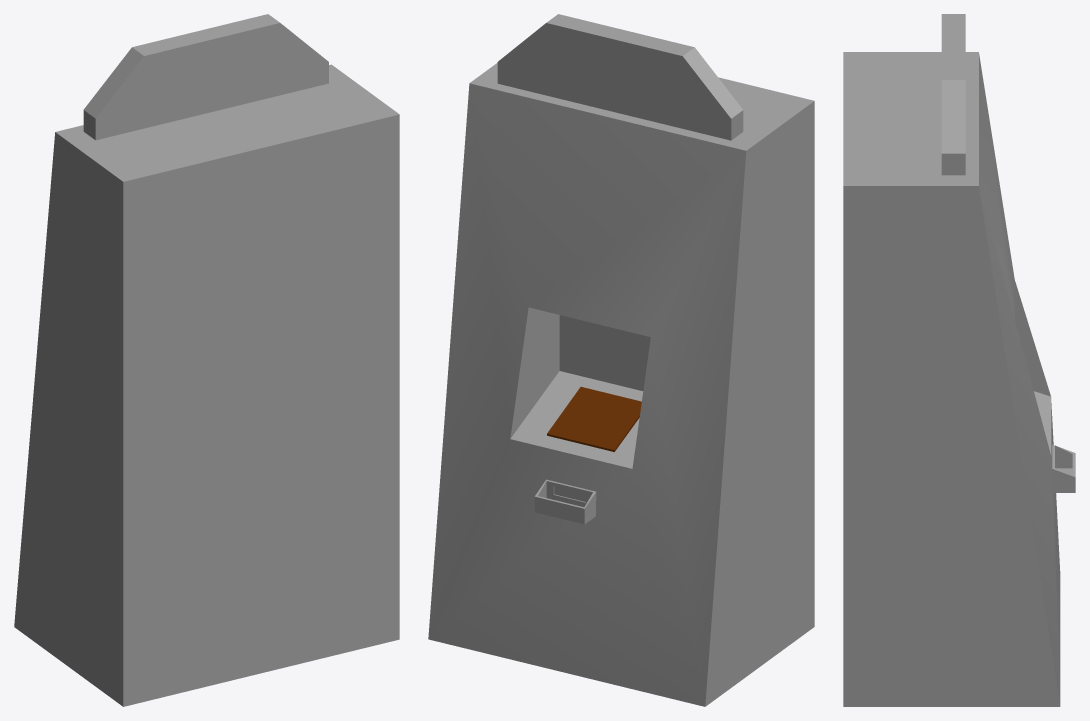
File: PartyintheATM.fbx
The picture shows the model from 3 angles, left to right: view 1: azimuth 30°, elevation 25°; view 2: azimuth 150°, elevation 25°; view 3: azimuth 270°, elevation 25°; orthographic projection.
Visible parts, largest first — view 1: pCube223; view 2: pCube223; view 3: pCube223.
Boxes of the visible parts, x1=… form: pCube223: x1=14, y1=14, x2=399, y2=706; pCube223: x1=428, y1=14, x2=814, y2=706; pCube223: x1=843, y1=14, x2=1075, y2=706.
Bounding box in the file's own units: 758 × 1566 × 555.
